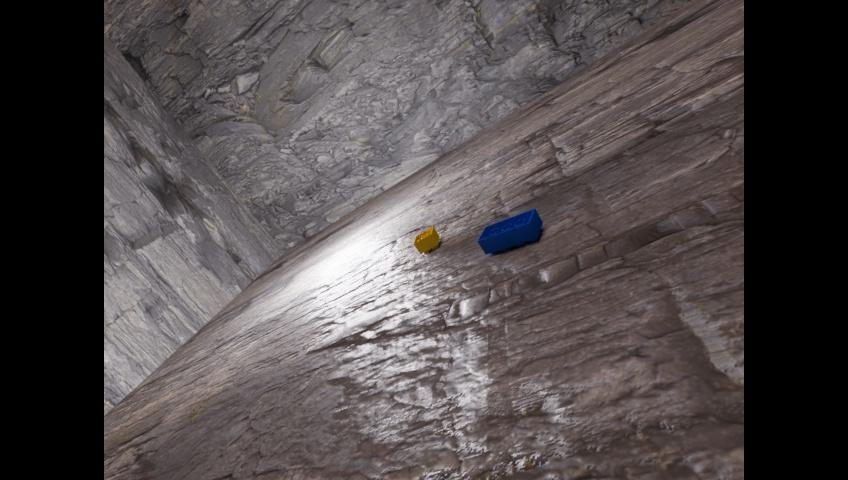2x2_yellow: (413, 225, 438, 253)
4x2_blue: (477, 207, 542, 254)
